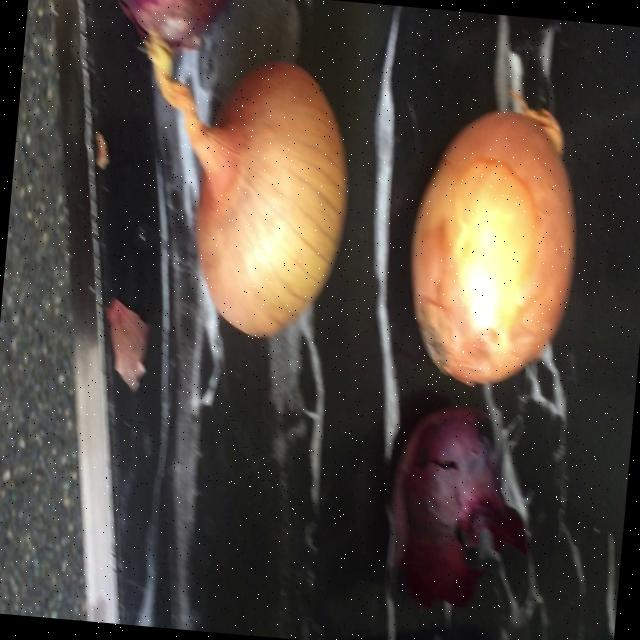Onion: (143, 35, 345, 335), (410, 109, 574, 383)
